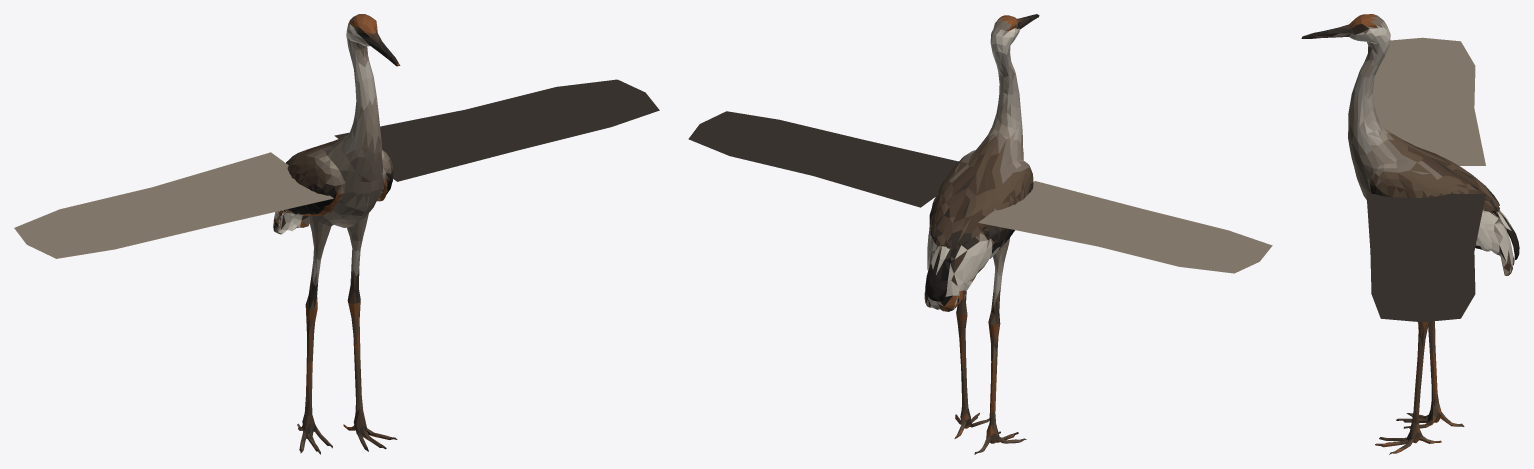
Rendered from grus_canadensis.glb.
3 renders of one model, left to right at view 1: azimuth 30°, elevation 25°; view 2: azimuth 150°, elevation 25°; view 3: azimuth 270°, elevation 25°, orthographic. The views are drawn at different scales.
Visible parts, largest first — view 1: lod0; view 2: lod0; view 3: lod0.
Boxes of the visible parts, x1,y1,x2,y2 form: lod0: (14,14,659,454); lod0: (688,14,1272,454); lod0: (1301,14,1519,454).
Size of what is drawn, in the model's own units: 2.3 by 1.57 by 0.7406.
